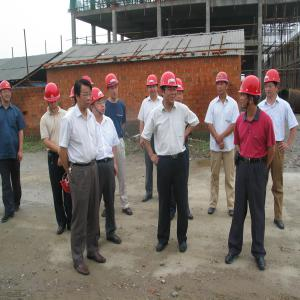none: (75, 80, 94, 110)
red: (240, 76, 264, 111), (161, 73, 178, 106), (264, 70, 282, 99), (91, 88, 108, 118), (45, 83, 62, 113), (105, 74, 122, 100), (145, 74, 160, 99), (217, 71, 230, 96), (1, 80, 14, 105), (174, 77, 186, 104), (70, 86, 76, 109)
